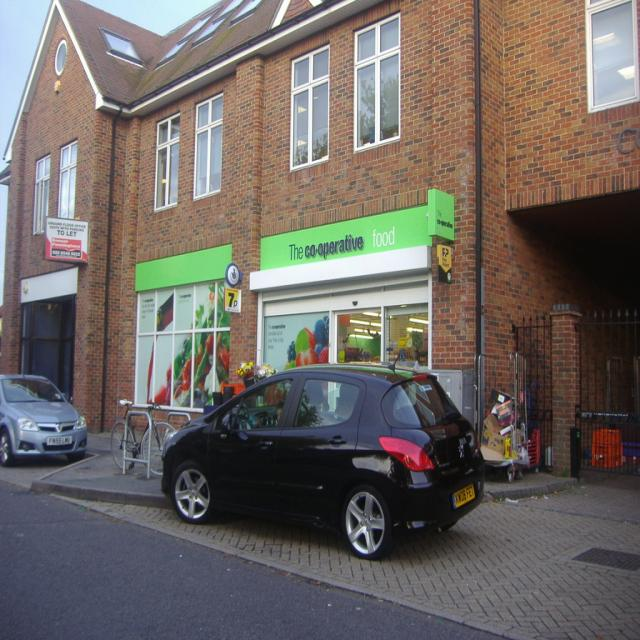car: (158, 357, 484, 556)
